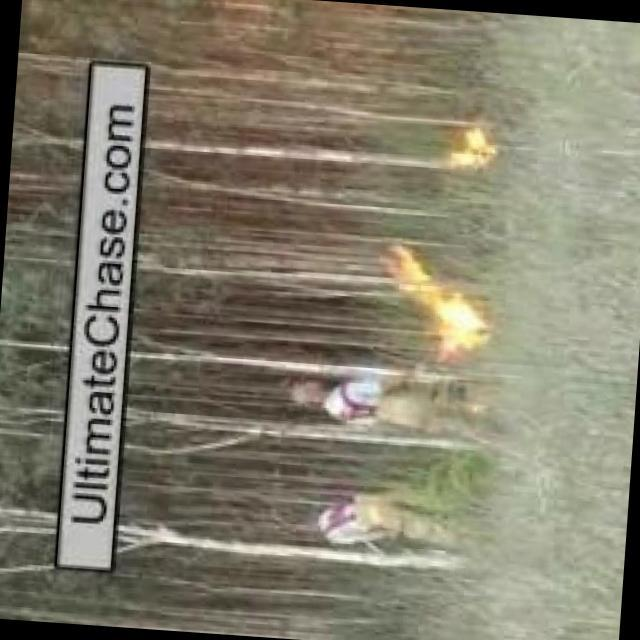Fire: (395, 237, 497, 362), (434, 282, 489, 363), (451, 126, 496, 171)
